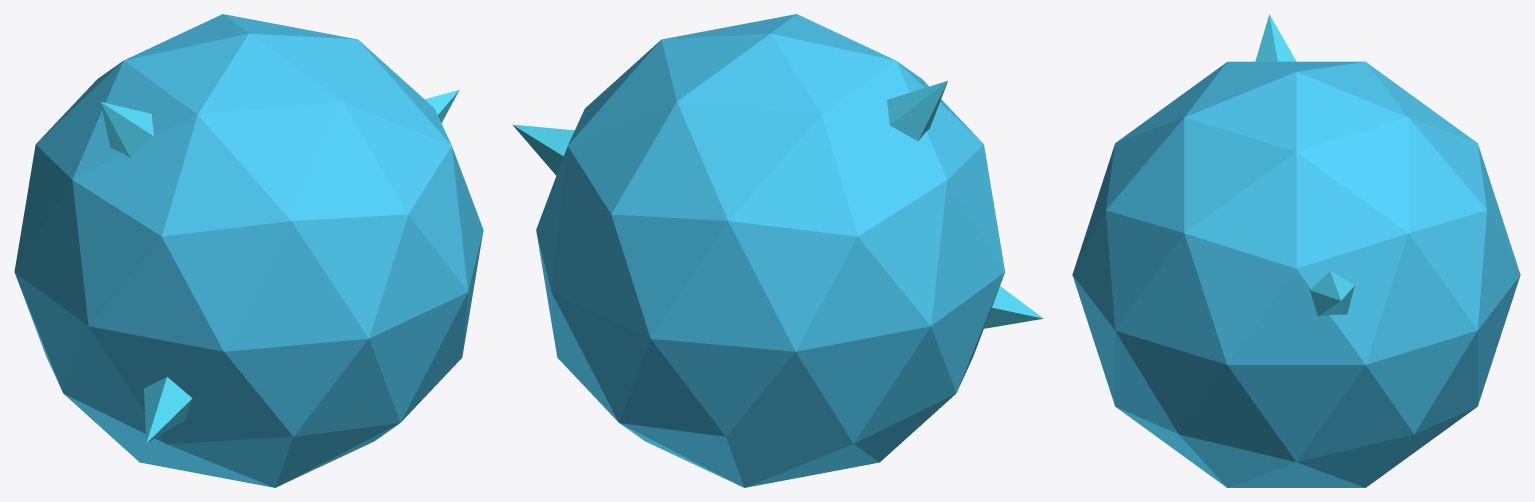
File: Ball_03.fbx
3 renders of one model, left to right at view 1: azimuth 30°, elevation 25°; view 2: azimuth 150°, elevation 25°; view 3: azimuth 270°, elevation 25°, orthographic. The views are drawn at different scales.
Visible parts, largest first — view 1: Ball_03_CrystalIce_Shell, Ball_03_CrystalIce_Body; view 2: Ball_03_CrystalIce_Shell, Ball_03_CrystalIce_Body; view 3: Ball_03_CrystalIce_Shell, Ball_03_CrystalIce_Body.
Boxes of the visible parts, left/top/right/bottom form: Ball_03_CrystalIce_Shell: left=14, top=14, right=483, bottom=487; Ball_03_CrystalIce_Body: left=100, top=89, right=459, bottom=443; Ball_03_CrystalIce_Shell: left=536, top=14, right=1004, bottom=487; Ball_03_CrystalIce_Body: left=512, top=81, right=1043, bottom=328; Ball_03_CrystalIce_Shell: left=1072, top=61, right=1520, bottom=487; Ball_03_CrystalIce_Body: left=1255, top=14, right=1354, bottom=316.
Size of the model in its own units: 248 by 238 by 238.
2 materials, 2 textured.
